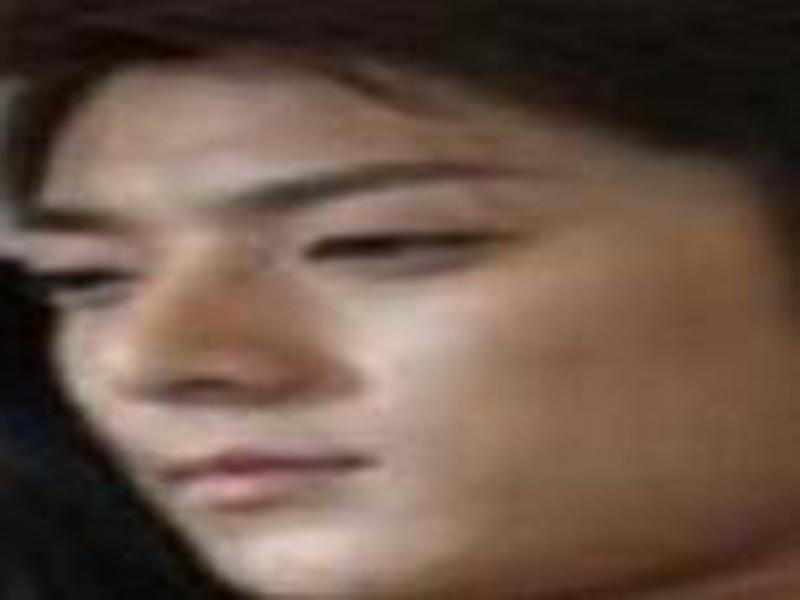without_mask: (4, 87, 768, 591)
